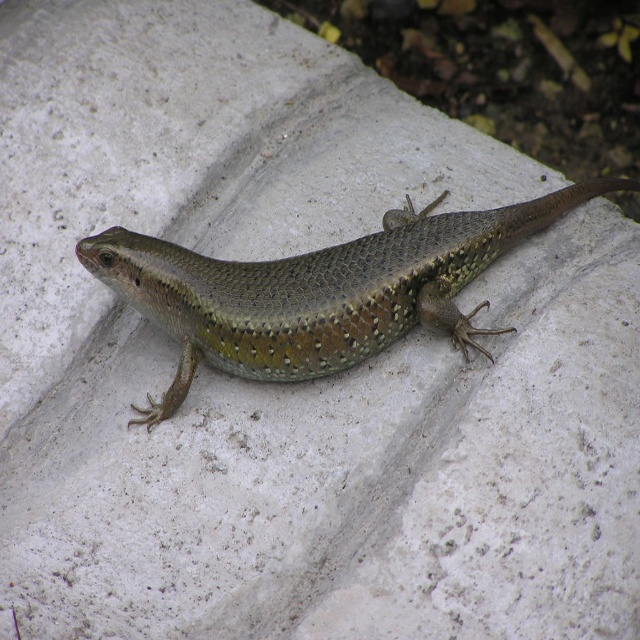Lizard: (77, 167, 639, 436)
